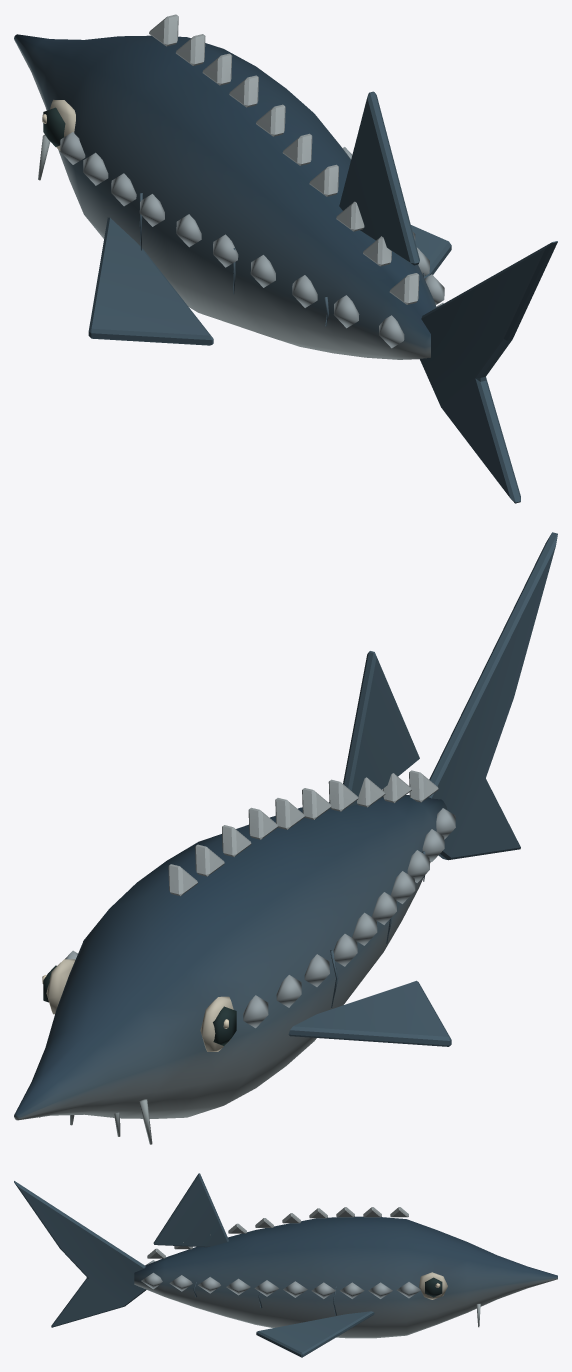
Rendered from fish_sturgeon.glb.
The picture shows the model from 3 angles, top to bottom: view 1: azimuth 30°, elevation 25°; view 2: azimuth 150°, elevation 25°; view 3: azimuth 270°, elevation 25°; orthographic projection. The views are drawn at different scales.
Bounding box in the file's own units: 0.4252 × 0.3547 × 1.1.
